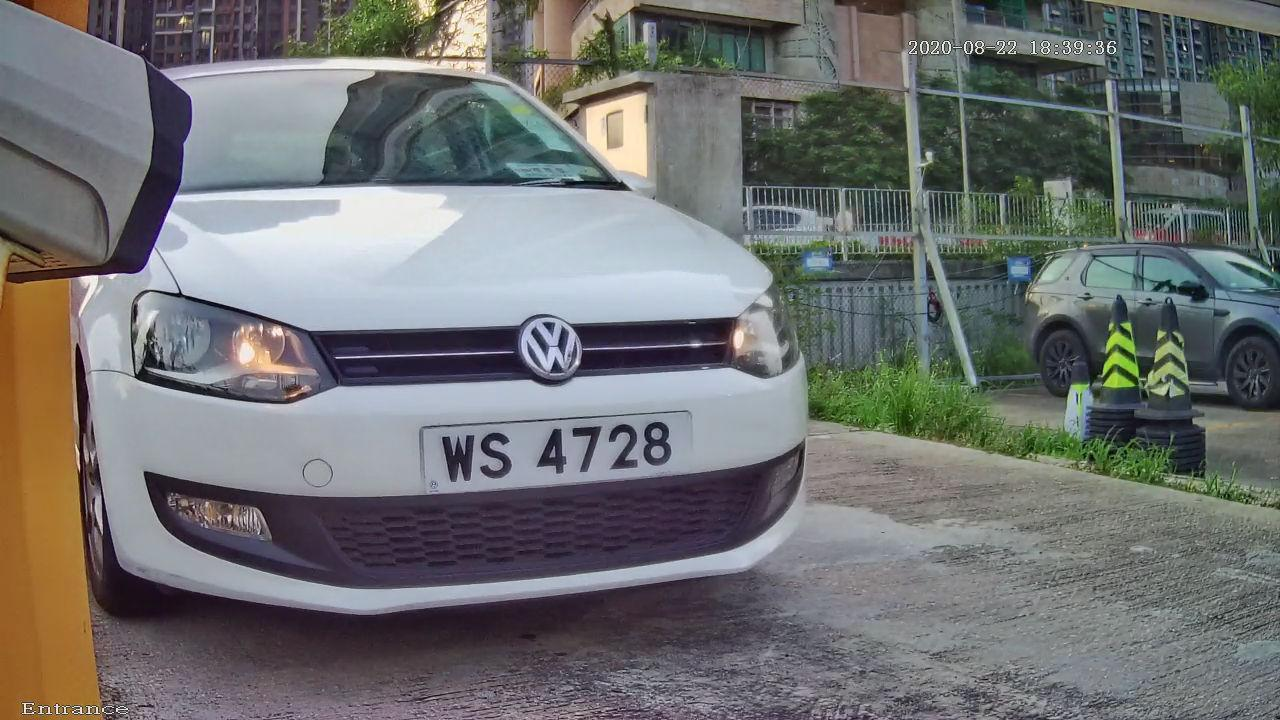Car: (18, 10, 858, 656)
License Plate: (391, 376, 745, 543)
